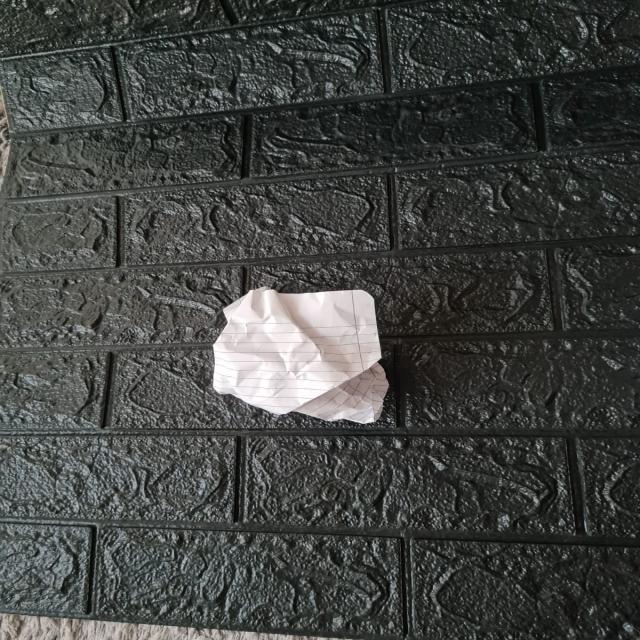Paper: (213, 281, 390, 423)
